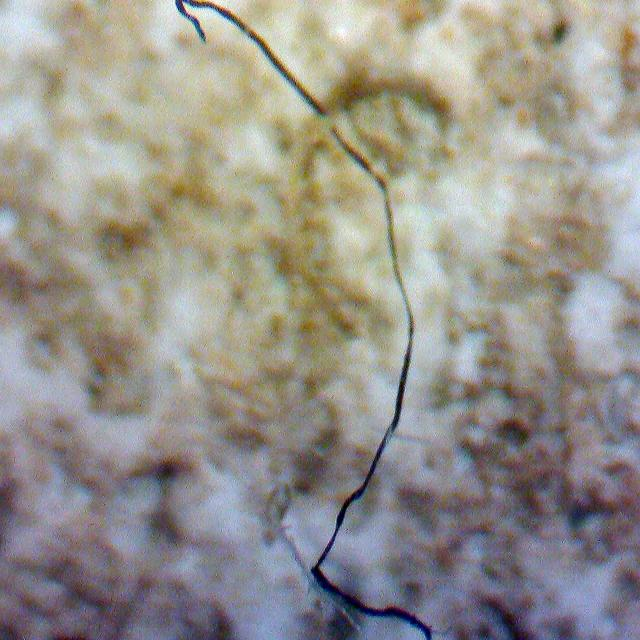microplastic: (173, 0, 432, 640)
